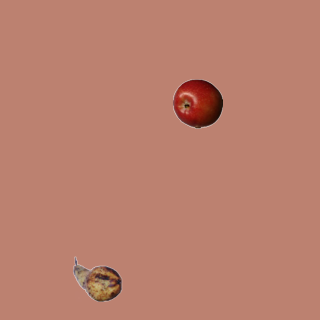Apple Braeburn: (172, 78, 222, 128)
Pear Abate: (72, 254, 122, 304)
